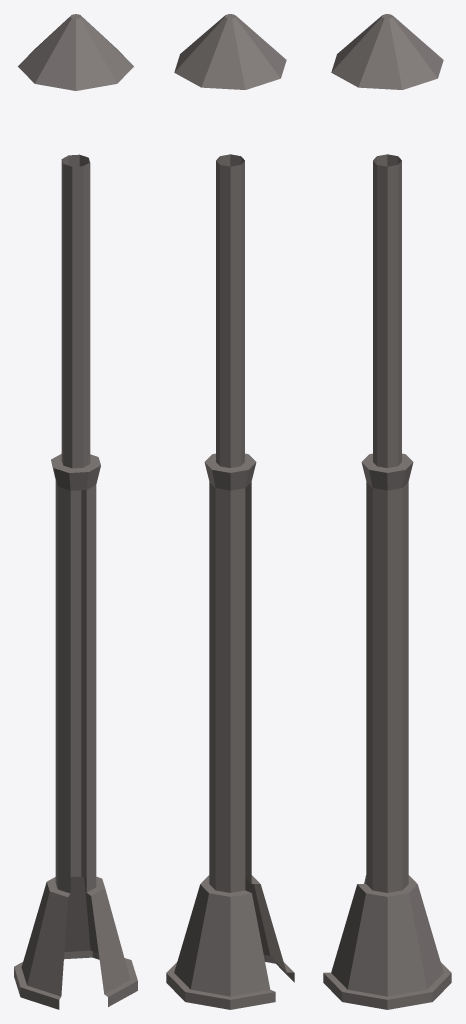
File: lamp_body.obj
3 views of the same model, side by side, from view 1: azimuth 90°, elevation 25°; view 2: azimuth 150°, elevation 25°; view 3: azimuth 330°, elevation 25° (orthographic).
Parts seen in each view (by area): view 1: SM_Lamp_01.001; view 2: SM_Lamp_01.001; view 3: SM_Lamp_01.001.
Boxes of the visible parts, x1,y1,x2,y2 form: SM_Lamp_01.001: (14, 14, 137, 1009); SM_Lamp_01.001: (166, 14, 294, 1009); SM_Lamp_01.001: (323, 14, 451, 1009).
Size of the model in its own units: 0.3412 by 2.94 by 0.3412.
